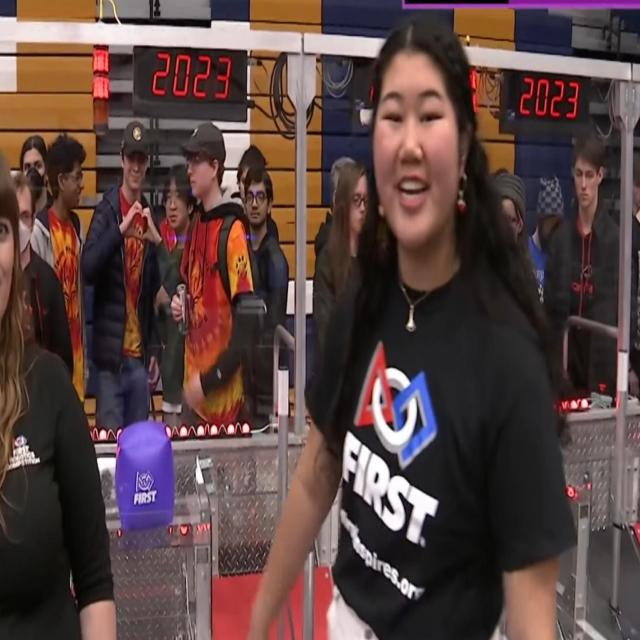frc_cube: (114, 423, 175, 535)
